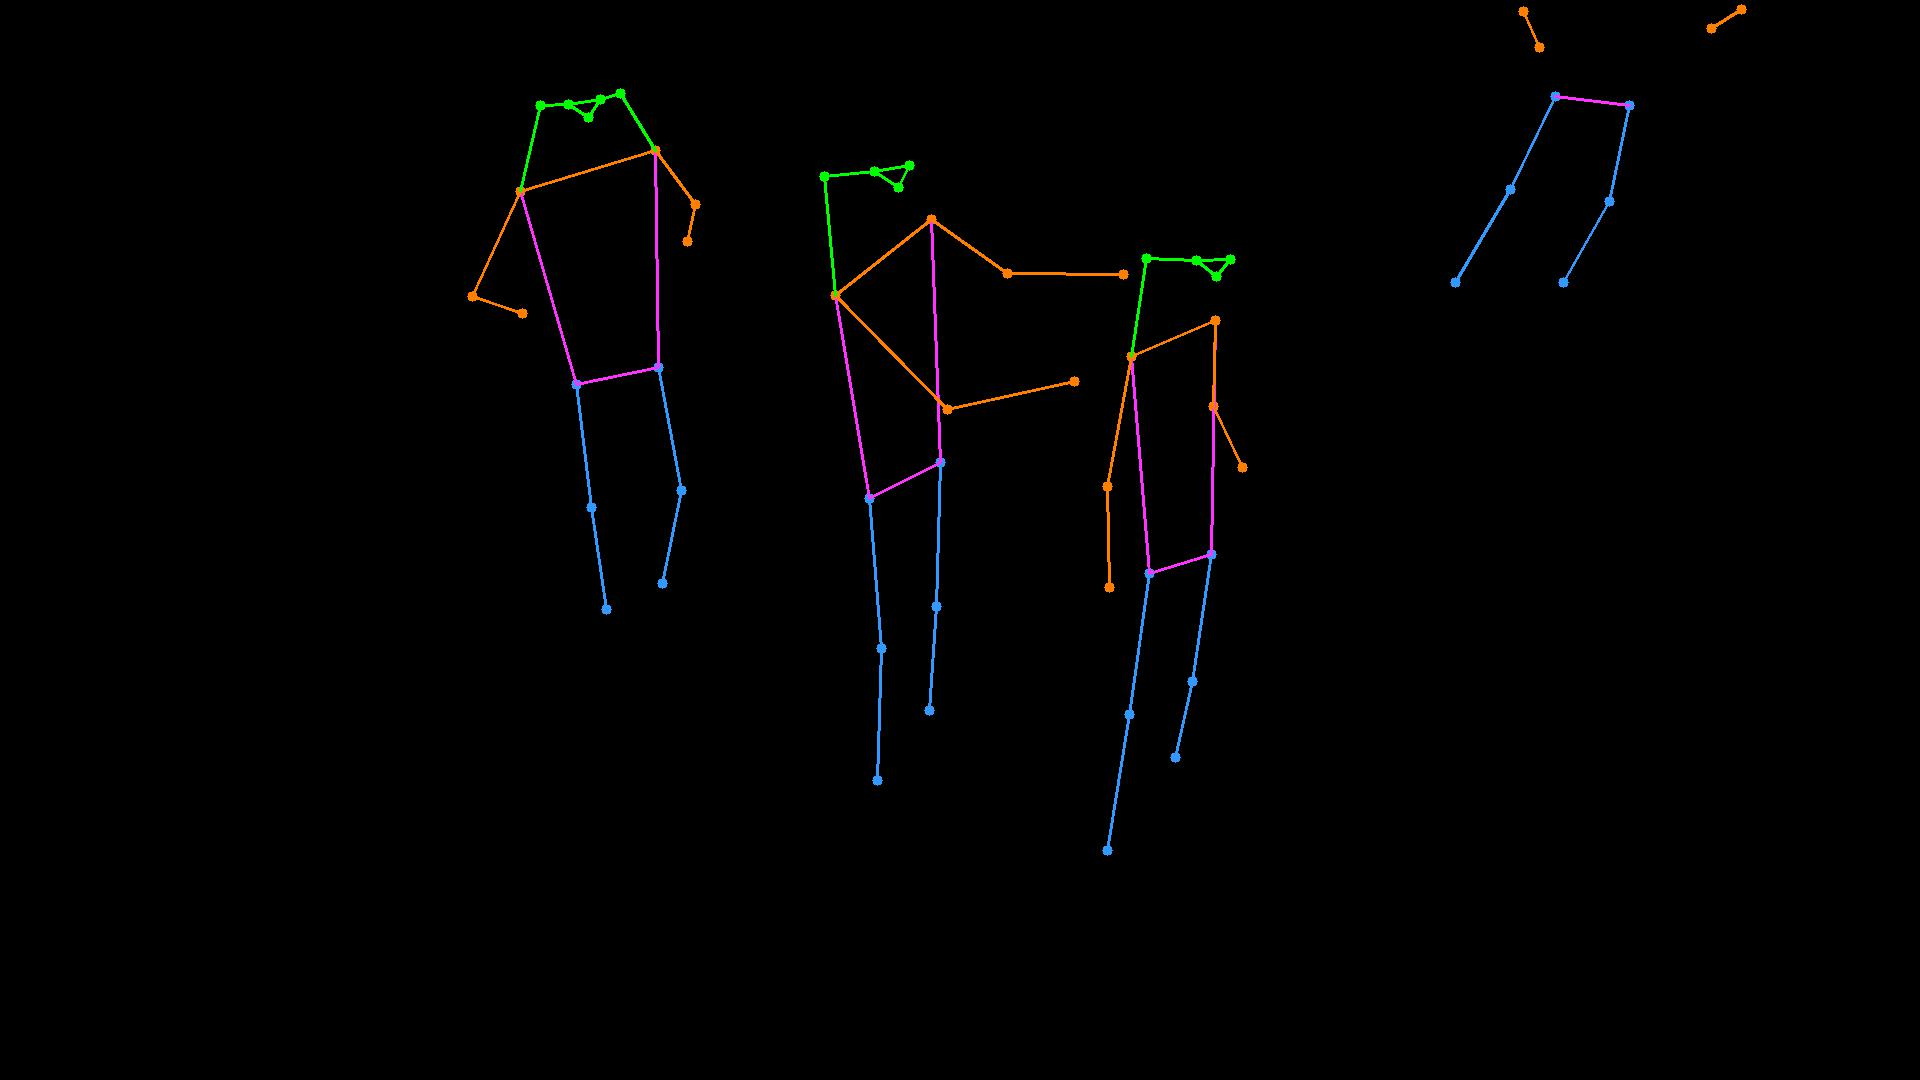normal: (783, 138, 1299, 891), (422, 58, 735, 665)
